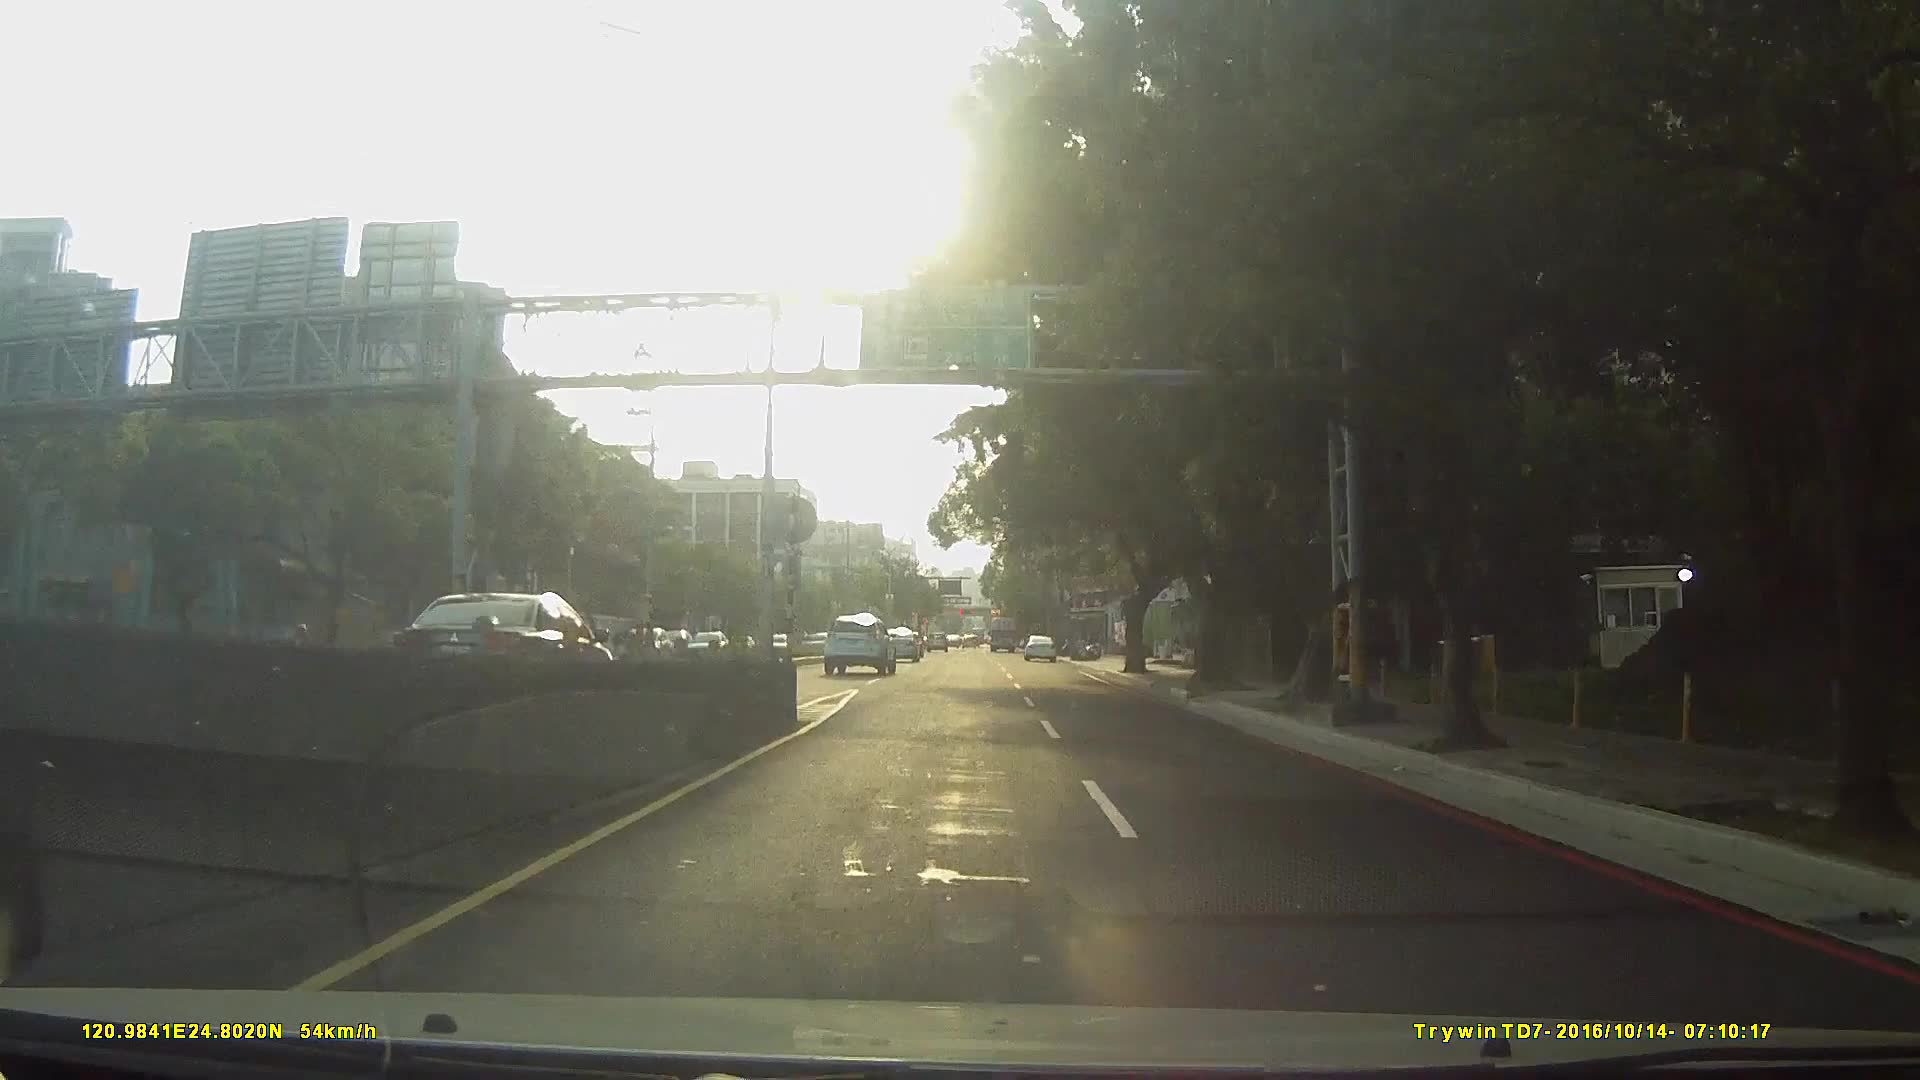vehicle: (393, 589, 615, 696), (822, 612, 895, 676), (877, 624, 920, 659), (986, 612, 1018, 650), (1021, 634, 1058, 662)
